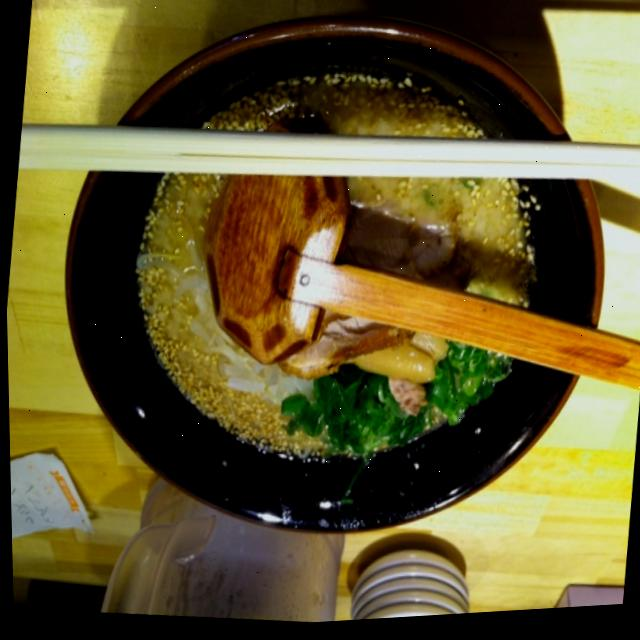面条主食: (21, 0, 640, 585)
